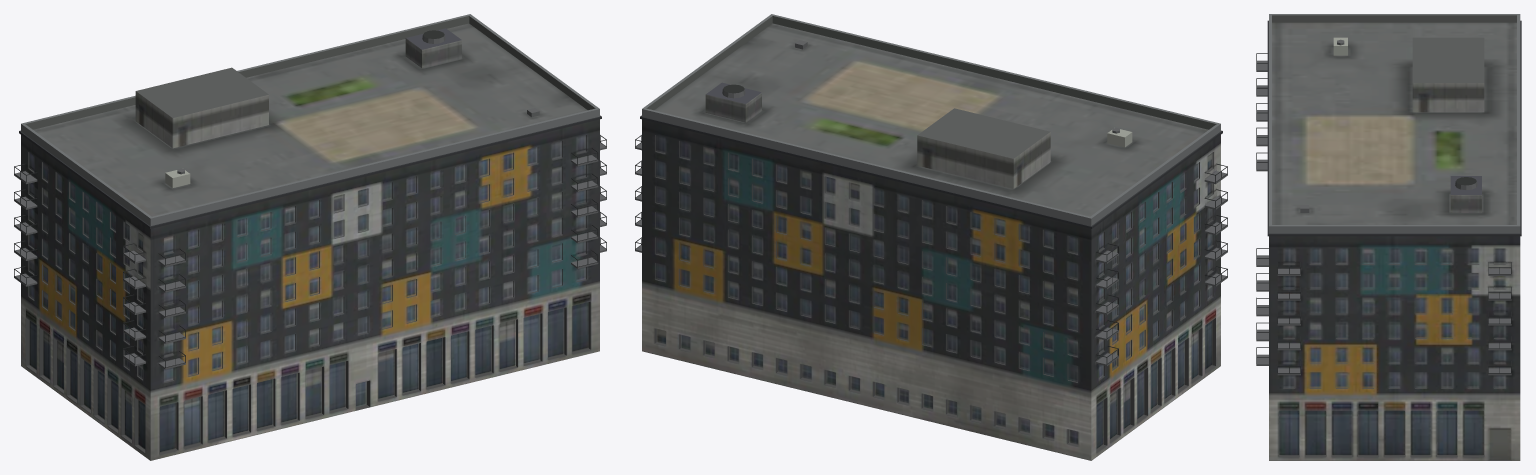
Rendered from seattle_podium_c.glb.
3 views of the same model, side by side, from view 1: azimuth 30°, elevation 25°; view 2: azimuth 150°, elevation 25°; view 3: azimuth 270°, elevation 25° (orthographic). The views are drawn at different scales.
Visible parts, largest first — view 1: seattle_podium_c; view 2: seattle_podium_c; view 3: seattle_podium_c.
Boxes of the visible parts, x1=… form: seattle_podium_c: x1=14, y1=14, x2=606, y2=460; seattle_podium_c: x1=635, y1=14, x2=1227, y2=460; seattle_podium_c: x1=1256, y1=14, x2=1521, y2=460.
Size of the model in its own units: 58.8 by 31.55 by 29.55.
1 material, 1 textured.
